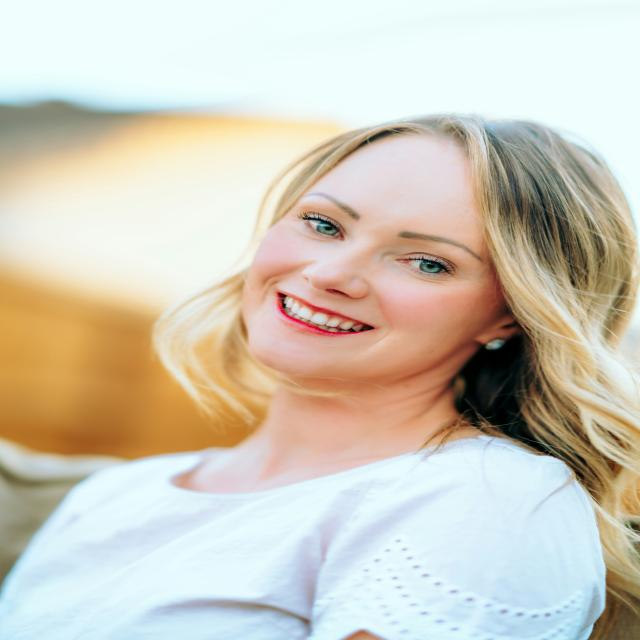human: (43, 96, 640, 623)
